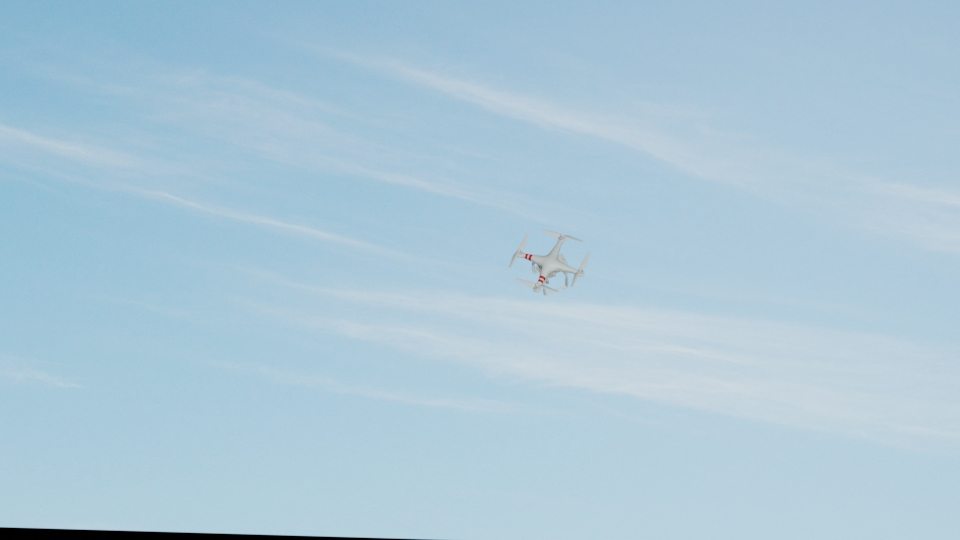drone: (509, 231, 592, 299)
